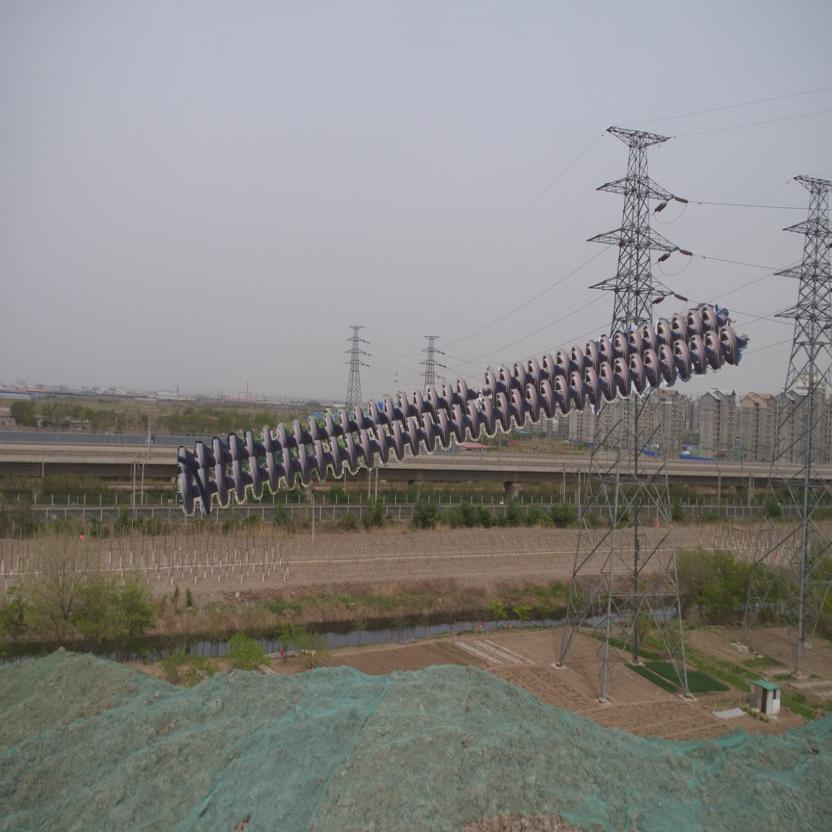defect: (454, 366, 499, 407)
